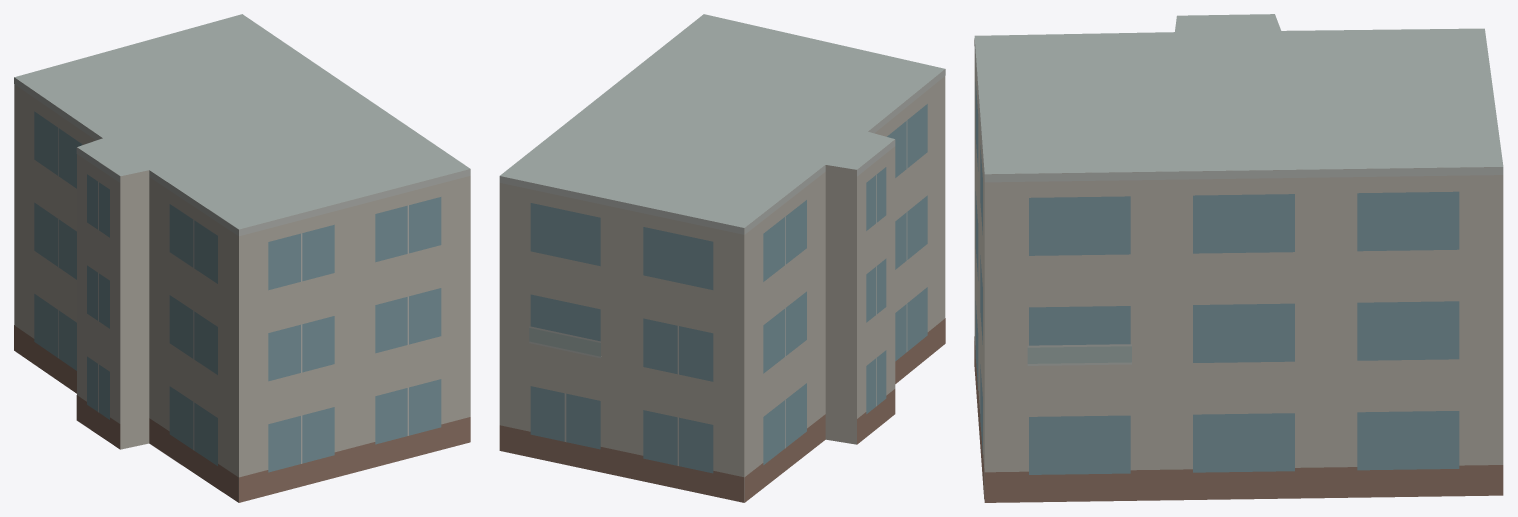
Rendered from survey-upis-32913565.glb.
3 views of the same model, side by side, from view 1: azimuth 30°, elevation 25°; view 2: azimuth 150°, elevation 25°; view 3: azimuth 270°, elevation 25° (orthographic). The views are drawn at different scales.
Parts seen in each view (by area): view 1: survey-upis-32913565.tmp; view 2: survey-upis-32913565.tmp; view 3: survey-upis-32913565.tmp.
Boxes of the visible parts, x1,y1,x2,y2 form: survey-upis-32913565.tmp: [14, 14, 470, 502]; survey-upis-32913565.tmp: [499, 14, 945, 502]; survey-upis-32913565.tmp: [974, 14, 1503, 502].
Bounding box in the file's own units: 10.25 × 9.8 × 14.31.
